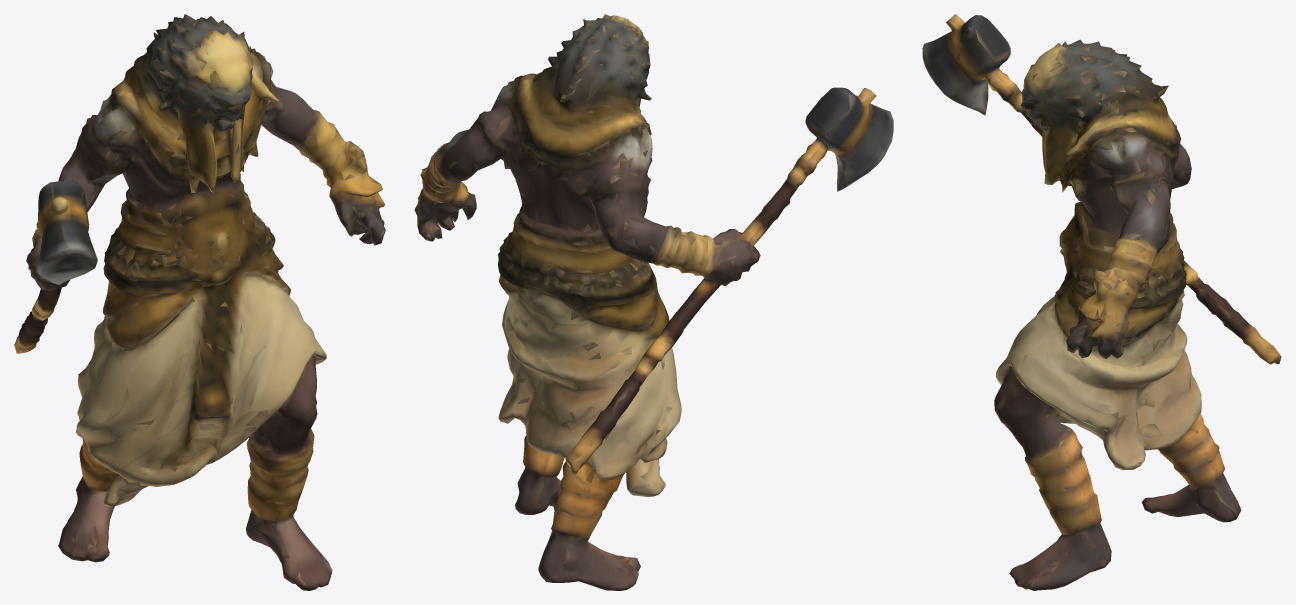
File: Masked Zealot Warrior_final.glb
3 views of the same model, side by side, from view 1: azimuth 30°, elevation 25°; view 2: azimuth 150°, elevation 25°; view 3: azimuth 270°, elevation 25° (orthographic). The views are drawn at different scales.
Parts seen in each view (by area): view 1: Mesh1.0; view 2: Mesh1.0; view 3: Mesh1.0.
Part boxes in pixels (left/top/right/bottom): Mesh1.0: left=14, top=14, right=385, bottom=590; Mesh1.0: left=414, top=14, right=893, bottom=590; Mesh1.0: left=922, top=14, right=1281, bottom=590.
Size of the model in its own units: 1.59 by 2 by 1.29.
Materials: 1 (1 with a texture image).
